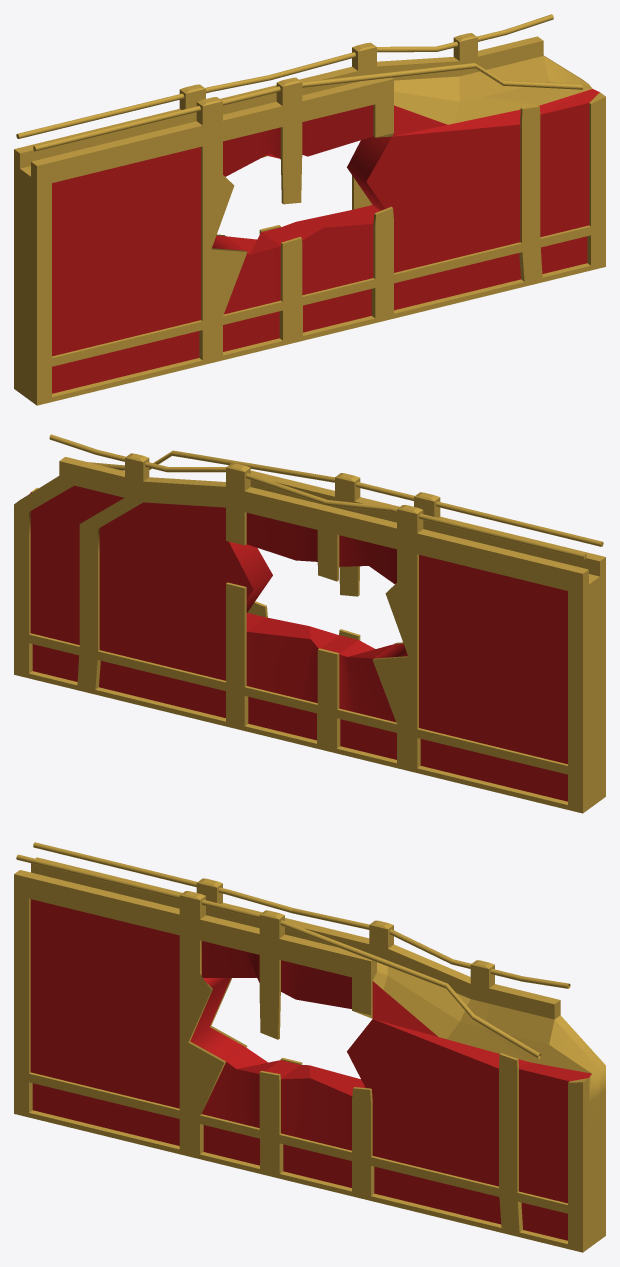
File: WallBrokenBig.fbx
The picture shows the model from 3 angles, top to bottom: view 1: azimuth 30°, elevation 25°; view 2: azimuth 150°, elevation 25°; view 3: azimuth 330°, elevation 25°; orthographic projection.
Visible parts, largest first — view 1: msh_wall_broken1; view 2: msh_wall_broken1; view 3: msh_wall_broken1.
Boxes of the visible parts, x1,y1,x2,y2 form: msh_wall_broken1: (14, 14, 605, 405); msh_wall_broken1: (14, 434, 605, 813); msh_wall_broken1: (14, 842, 605, 1252).
Bounding box in the file's own units: 12.43 × 5.44 × 1.34.
